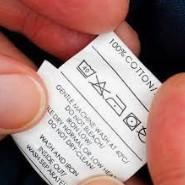40C: (76, 58, 97, 79)
DN_bleach: (88, 79, 110, 97)
iron_low: (105, 94, 127, 115)
tumble_dry_low: (121, 112, 142, 132)
